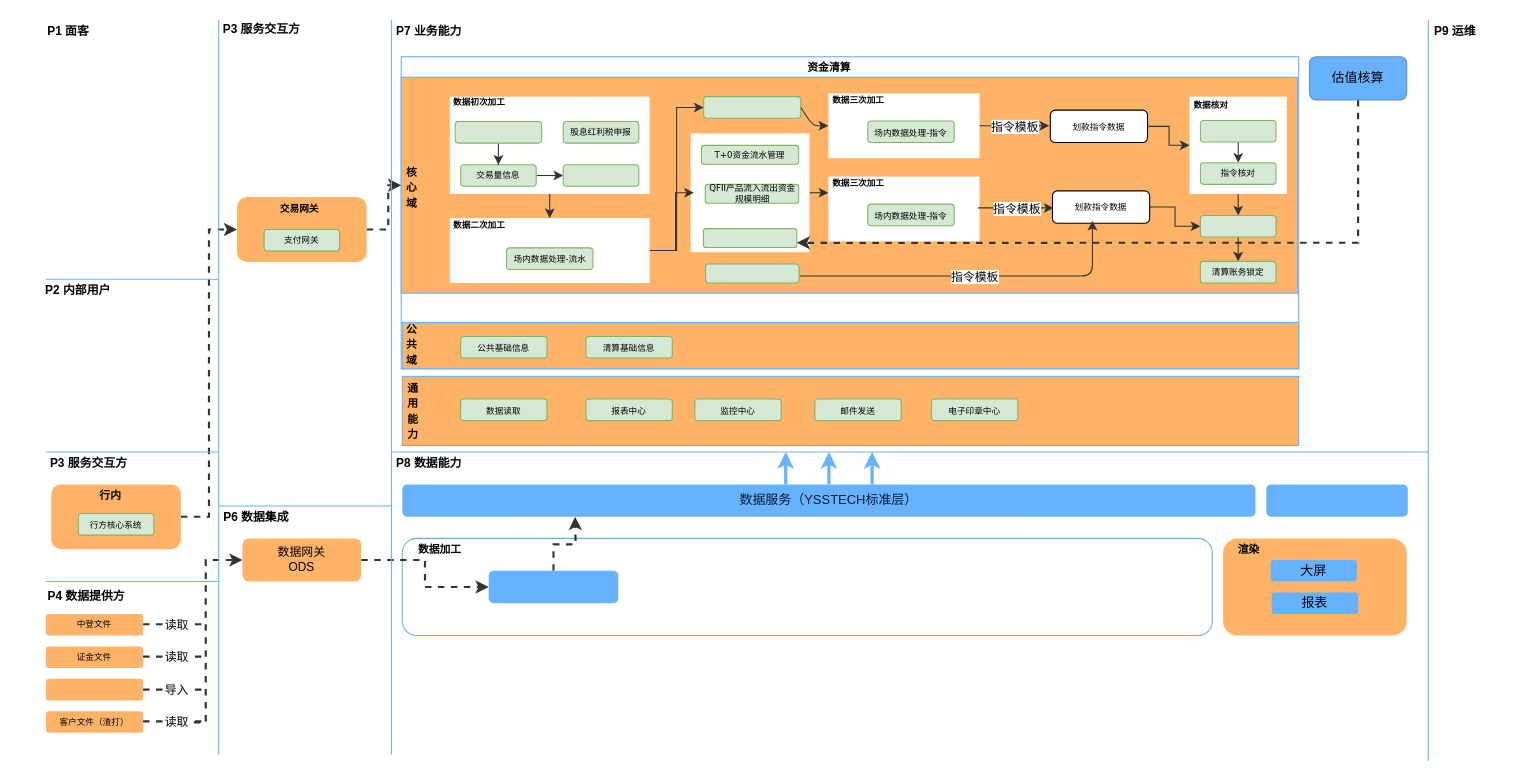
Image size: 1522x781. Some labels were removed from this diagram. The shapes that lost their labels are listed below. From the top down, each one's box as (x1, y1, x2, y2) in pixels, then its label:
(703, 96, 801, 118): 资金流水（明细和汇总）
(454, 120, 542, 143): 场内数据处理-交易量
(1199, 119, 1276, 142): 流水核对
(562, 164, 639, 186): 两金调整及结息
(702, 228, 797, 248): 券商清算资金流水管理
(1199, 214, 1276, 237): 指令执行
(704, 263, 799, 283): 港股通提前应付流水
(1266, 484, 1407, 516): 数据事件
(488, 570, 618, 603): 标准化加工
(45, 678, 143, 700): 管理人文件
